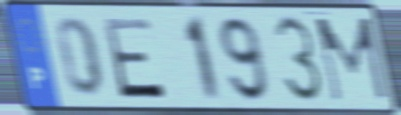0: (54, 14, 107, 103)
1: (183, 12, 227, 107)
3: (271, 12, 326, 106)
9: (217, 14, 270, 105)
E: (100, 16, 170, 102)
M: (312, 14, 392, 105)
